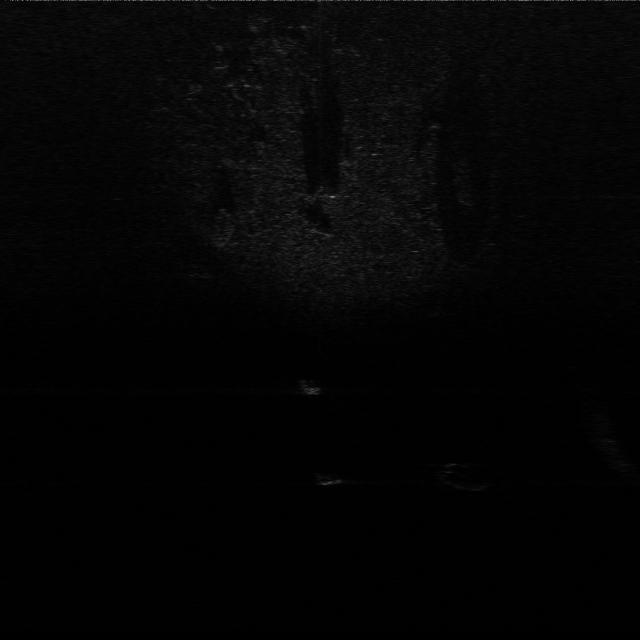cube: (311, 462, 347, 488)
square cage: (293, 373, 329, 398)
tyre: (440, 458, 490, 495)
